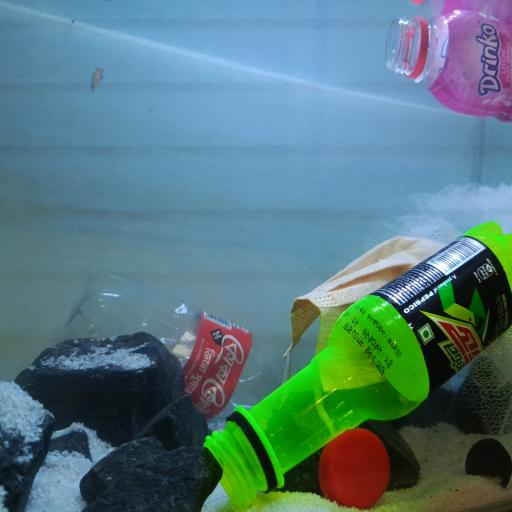bottle_cap: (318, 426, 391, 507), (464, 438, 512, 490)
mask: (282, 235, 446, 383)
net: (390, 183, 512, 266), (458, 328, 512, 436)
plastic_bottle: (201, 220, 512, 507), (60, 270, 280, 420), (385, 9, 512, 124)
